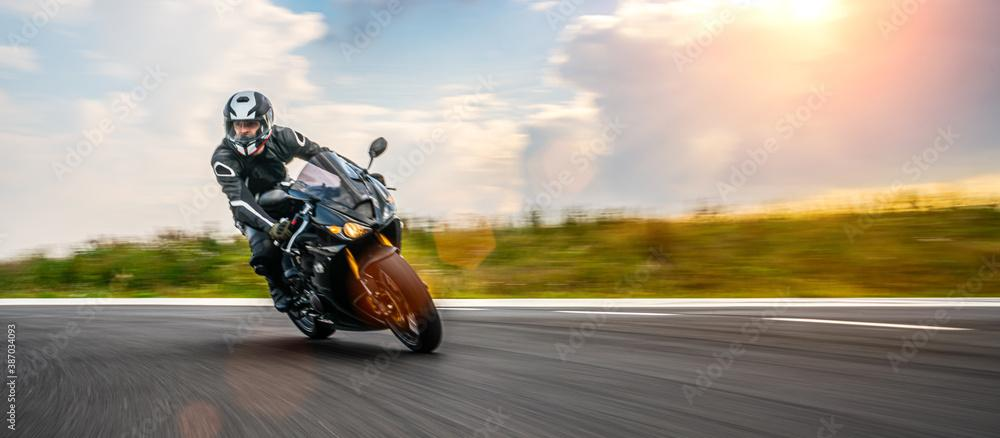helmet: (223, 90, 275, 158)
